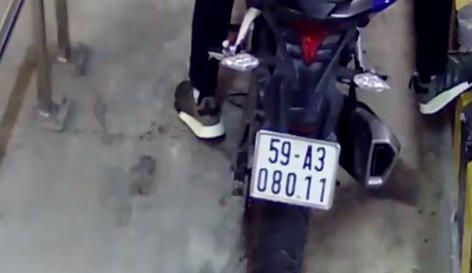lisence: (248, 130, 341, 211)
